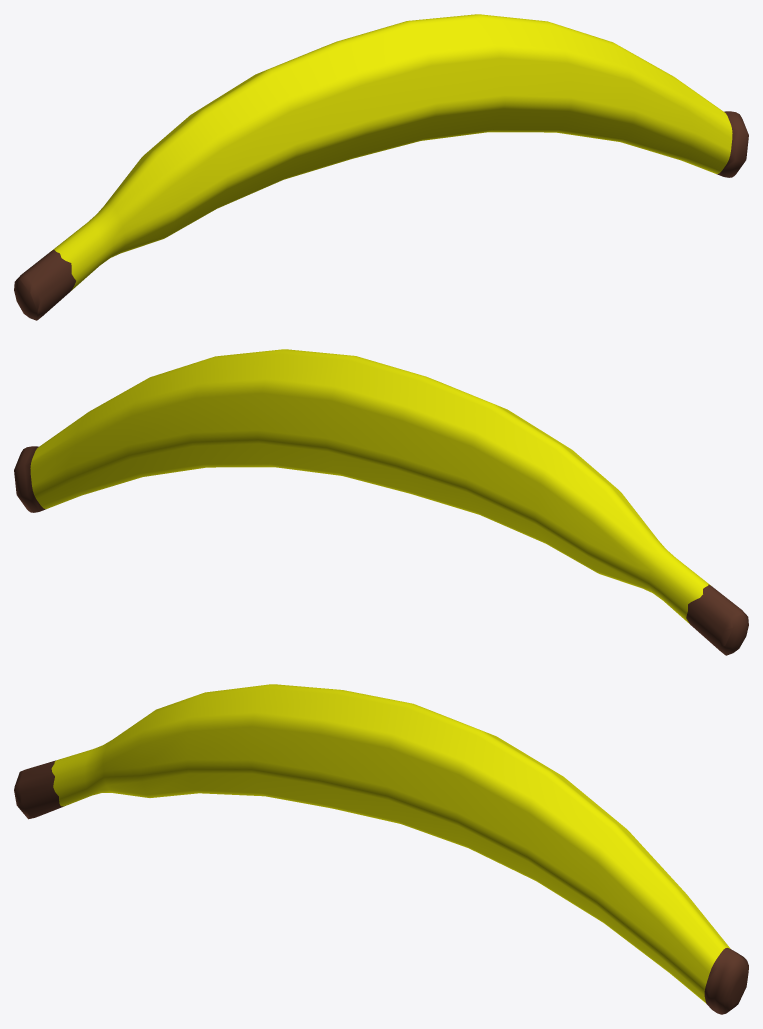
Rendered from SM_Banana.fbx.
3 renders of one model, top to bottom at view 1: azimuth 30°, elevation 25°; view 2: azimuth 150°, elevation 25°; view 3: azimuth 330°, elevation 25°, orthographic.
Visible parts, largest first — view 1: pCylinder1; view 2: pCylinder1; view 3: pCylinder1.
Boxes of the visible parts, x1=… form: pCylinder1: x1=14, y1=14, x2=748, y2=320; pCylinder1: x1=14, y1=349, x2=748, y2=655; pCylinder1: x1=14, y1=684, x2=748, y2=1014.
Bounding box in the file's own units: 2489 × 750 × 293.
